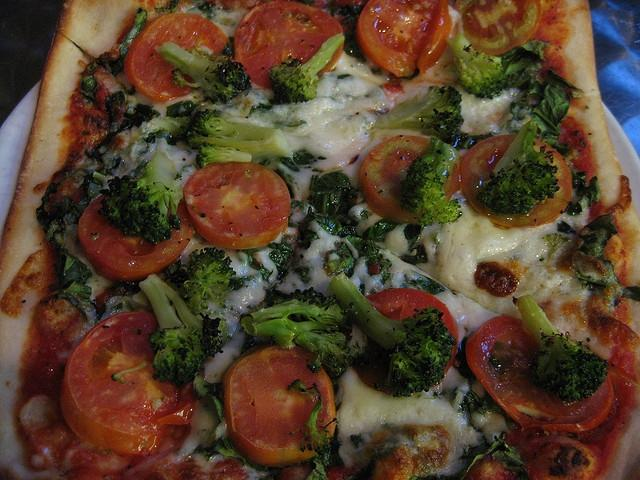broccoli: (328, 272, 457, 398), (240, 287, 369, 394), (512, 294, 610, 403), (139, 274, 224, 388), (477, 118, 561, 216), (97, 151, 183, 245), (367, 86, 476, 151), (180, 108, 298, 167), (154, 41, 252, 104), (268, 33, 346, 104), (398, 156, 462, 228), (446, 34, 506, 100), (288, 380, 338, 457), (187, 247, 236, 290), (49, 260, 92, 299), (195, 142, 252, 168), (45, 196, 76, 243), (448, 386, 459, 404)
tomato: (60, 311, 196, 456), (464, 314, 614, 432), (222, 344, 336, 467), (343, 288, 458, 393), (461, 134, 572, 228), (78, 195, 194, 281), (234, 0, 344, 90), (124, 12, 229, 104), (358, 134, 461, 226), (184, 162, 291, 250), (356, 0, 452, 78), (453, 0, 542, 56)
